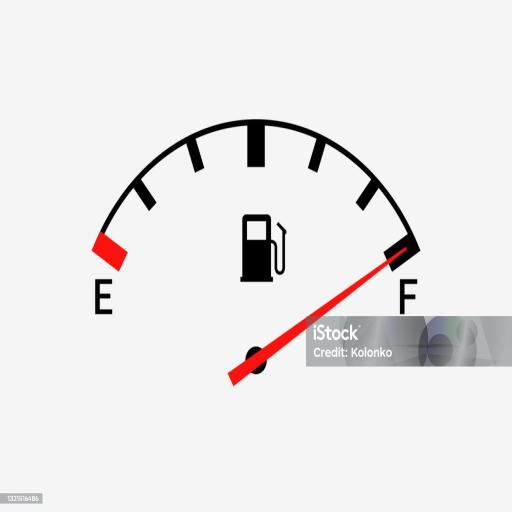empty: (86, 278, 120, 321)
fuel_icon: (235, 212, 290, 286)
full: (391, 280, 425, 322)
guage_area: (81, 112, 427, 408)
needle_center: (238, 343, 279, 386)
needle_tip: (396, 240, 410, 263)
